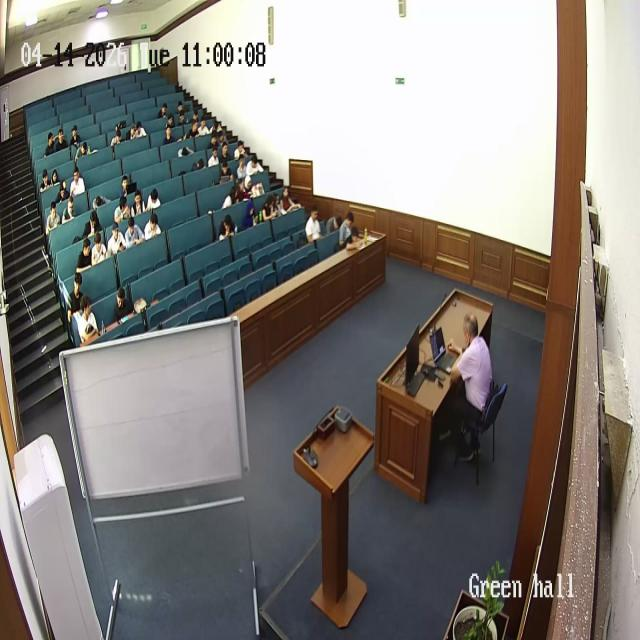person: (444, 312, 494, 458), (75, 296, 101, 344), (66, 273, 88, 325), (112, 284, 135, 324), (338, 211, 360, 248), (76, 236, 96, 273), (106, 221, 126, 257), (322, 204, 343, 238), (90, 230, 108, 267), (82, 208, 102, 240), (305, 207, 323, 242), (124, 216, 144, 247), (279, 184, 299, 214), (69, 164, 86, 198), (61, 191, 78, 224), (46, 204, 62, 238), (144, 211, 162, 241), (244, 152, 263, 180), (119, 174, 137, 203), (219, 213, 237, 241), (235, 172, 253, 200), (259, 196, 277, 222), (221, 183, 239, 209), (69, 125, 84, 156), (215, 158, 232, 185), (114, 197, 130, 225), (130, 188, 146, 216), (189, 156, 211, 175), (219, 141, 233, 170), (54, 128, 68, 156), (45, 132, 58, 162), (54, 177, 69, 203), (190, 118, 206, 142), (131, 119, 147, 142), (147, 186, 161, 212), (40, 168, 54, 194), (162, 124, 176, 150), (110, 127, 124, 153), (49, 164, 64, 188), (207, 143, 221, 168), (176, 142, 192, 162), (74, 140, 91, 158), (175, 110, 190, 130), (189, 104, 201, 125), (89, 195, 108, 208), (156, 99, 169, 117), (164, 111, 177, 129), (175, 98, 187, 110)
